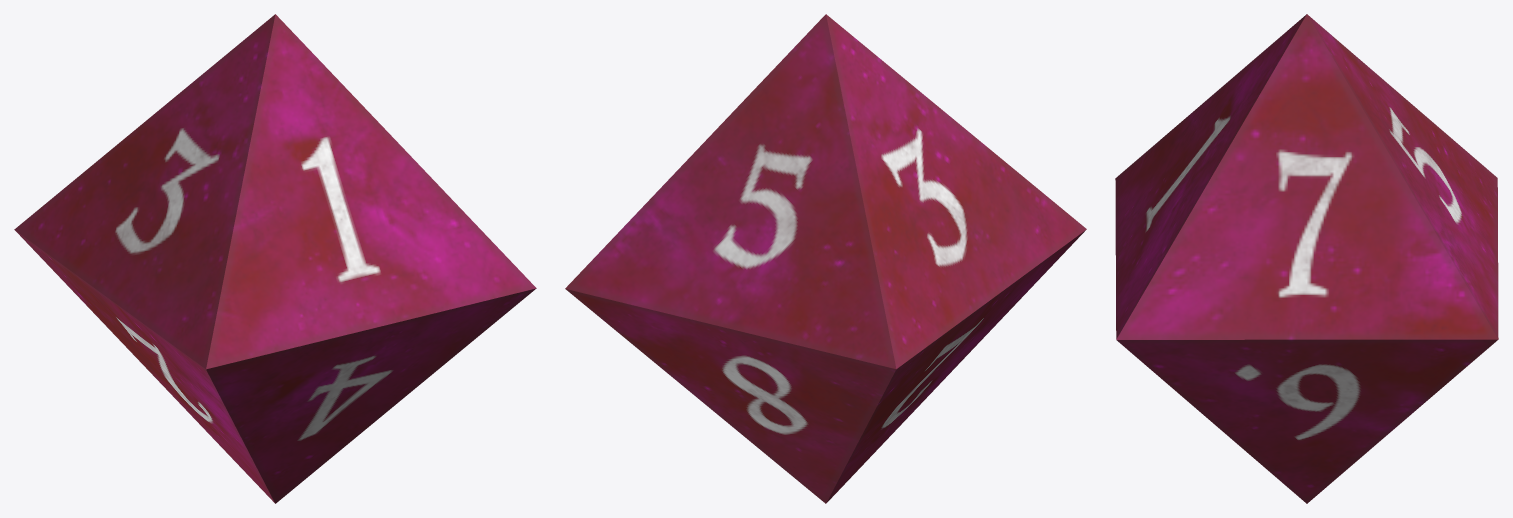
The picture shows the model from 3 angles, left to right: view 1: azimuth 30°, elevation 25°; view 2: azimuth 150°, elevation 25°; view 3: azimuth 270°, elevation 25°; orthographic projection.
Parts seen in each view (by area): view 1: d8; view 2: d8; view 3: d8.
Boxes of the visible parts, x1,y1,x2,y2 form: d8: (14,14,536,503); d8: (565,14,1086,503); d8: (1115,14,1498,503).
Bounding box in the file's own units: 0.9008 × 1.27 × 0.9008.
Materials: 1 (1 with a texture image).
